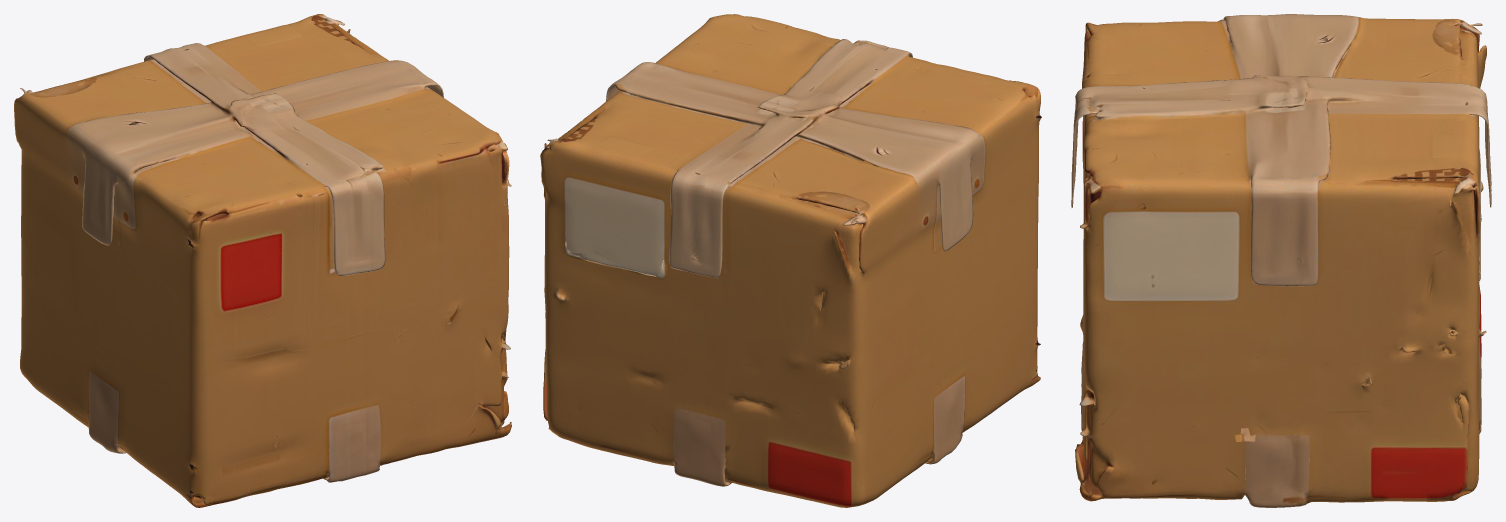
Rendered from ml_job_parcel_box.glb.
3 views of the same model, side by side, from view 1: azimuth 30°, elevation 25°; view 2: azimuth 150°, elevation 25°; view 3: azimuth 270°, elevation 25° (orthographic). The views are drawn at different scales.
Parts seen in each view (by area): view 1: tripo_node_2704461e-c874-4fa3-b8b2-ff7d602d00ac; view 2: tripo_node_2704461e-c874-4fa3-b8b2-ff7d602d00ac; view 3: tripo_node_2704461e-c874-4fa3-b8b2-ff7d602d00ac.
Part boxes in pixels (box(x1,y1,x2,y2)): tripo_node_2704461e-c874-4fa3-b8b2-ff7d602d00ac: box(14, 14, 511, 507); tripo_node_2704461e-c874-4fa3-b8b2-ff7d602d00ac: box(540, 14, 1041, 507); tripo_node_2704461e-c874-4fa3-b8b2-ff7d602d00ac: box(1071, 14, 1491, 507).
Bounding box in the file's own units: 0.9783 × 0.8703 × 0.9719.
Materials: 1 (1 with a texture image).
